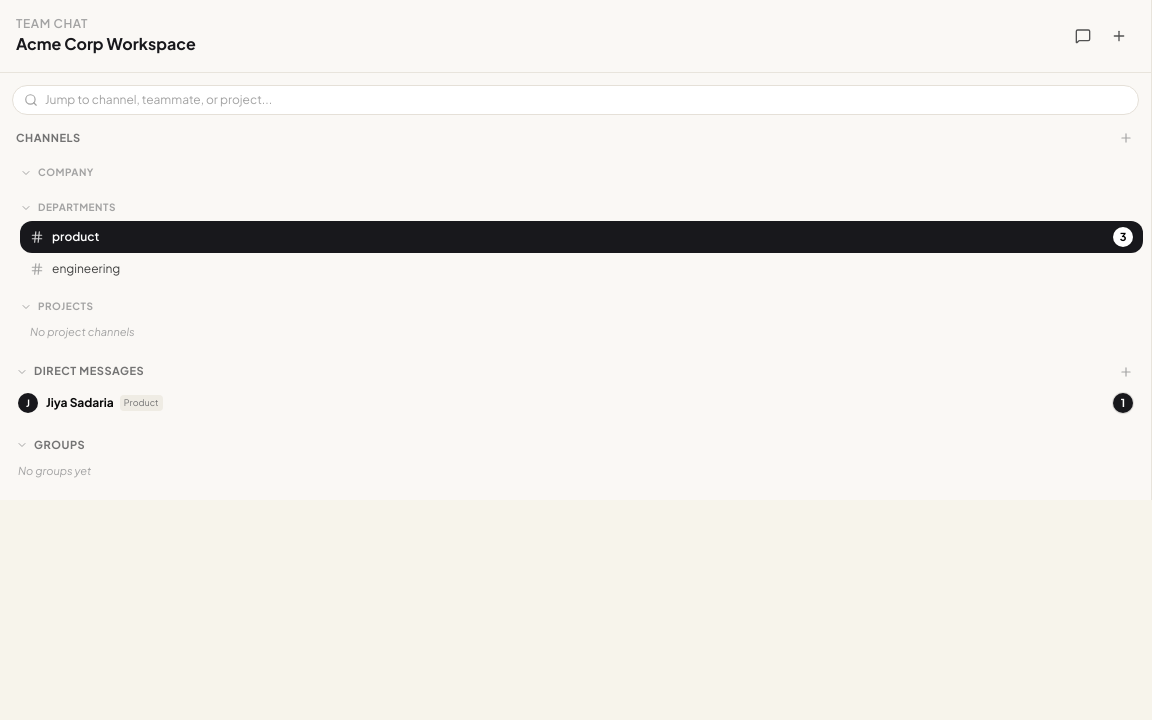
Scenario: Team Chat UI Components › TeamChatSidebar › filters conversations using search query
The width and height of the screenshot is (1152, 720).
In the field with placeholder "Jump to channel, teammate, or project...": (576, 100) [12, 85, 1139, 115], type "eng"
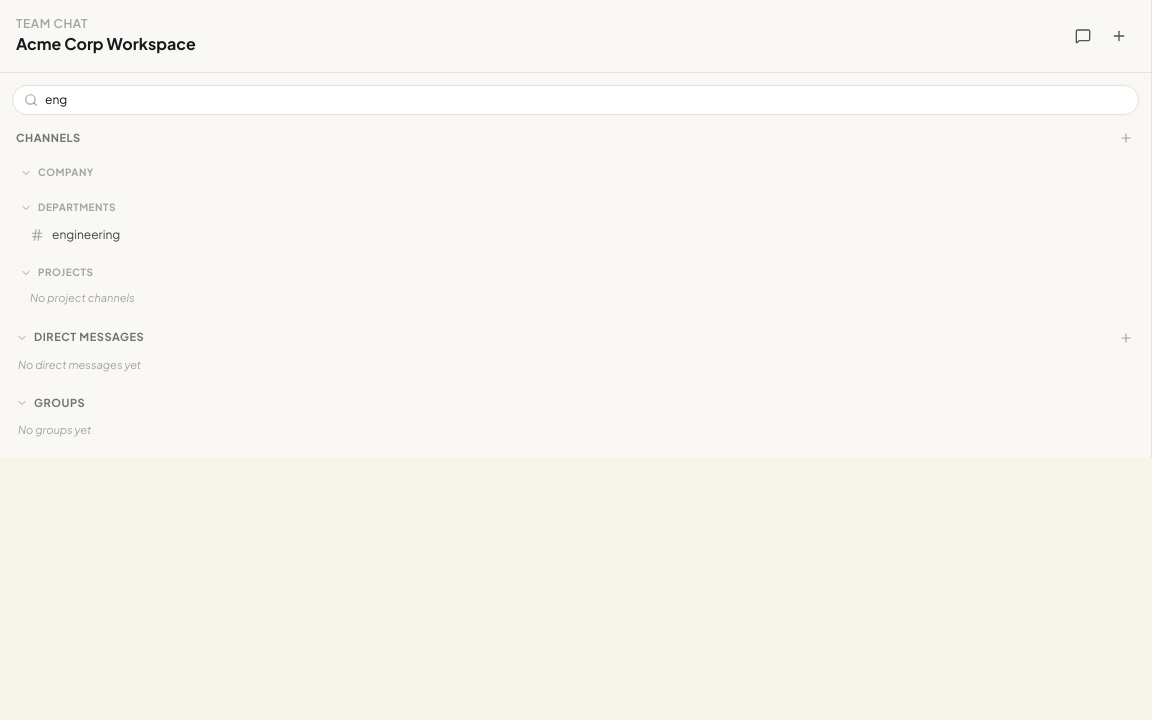
expect the text "engineering" is shown: met, box [52, 227, 120, 243]
expect the button "product" is gone: met
